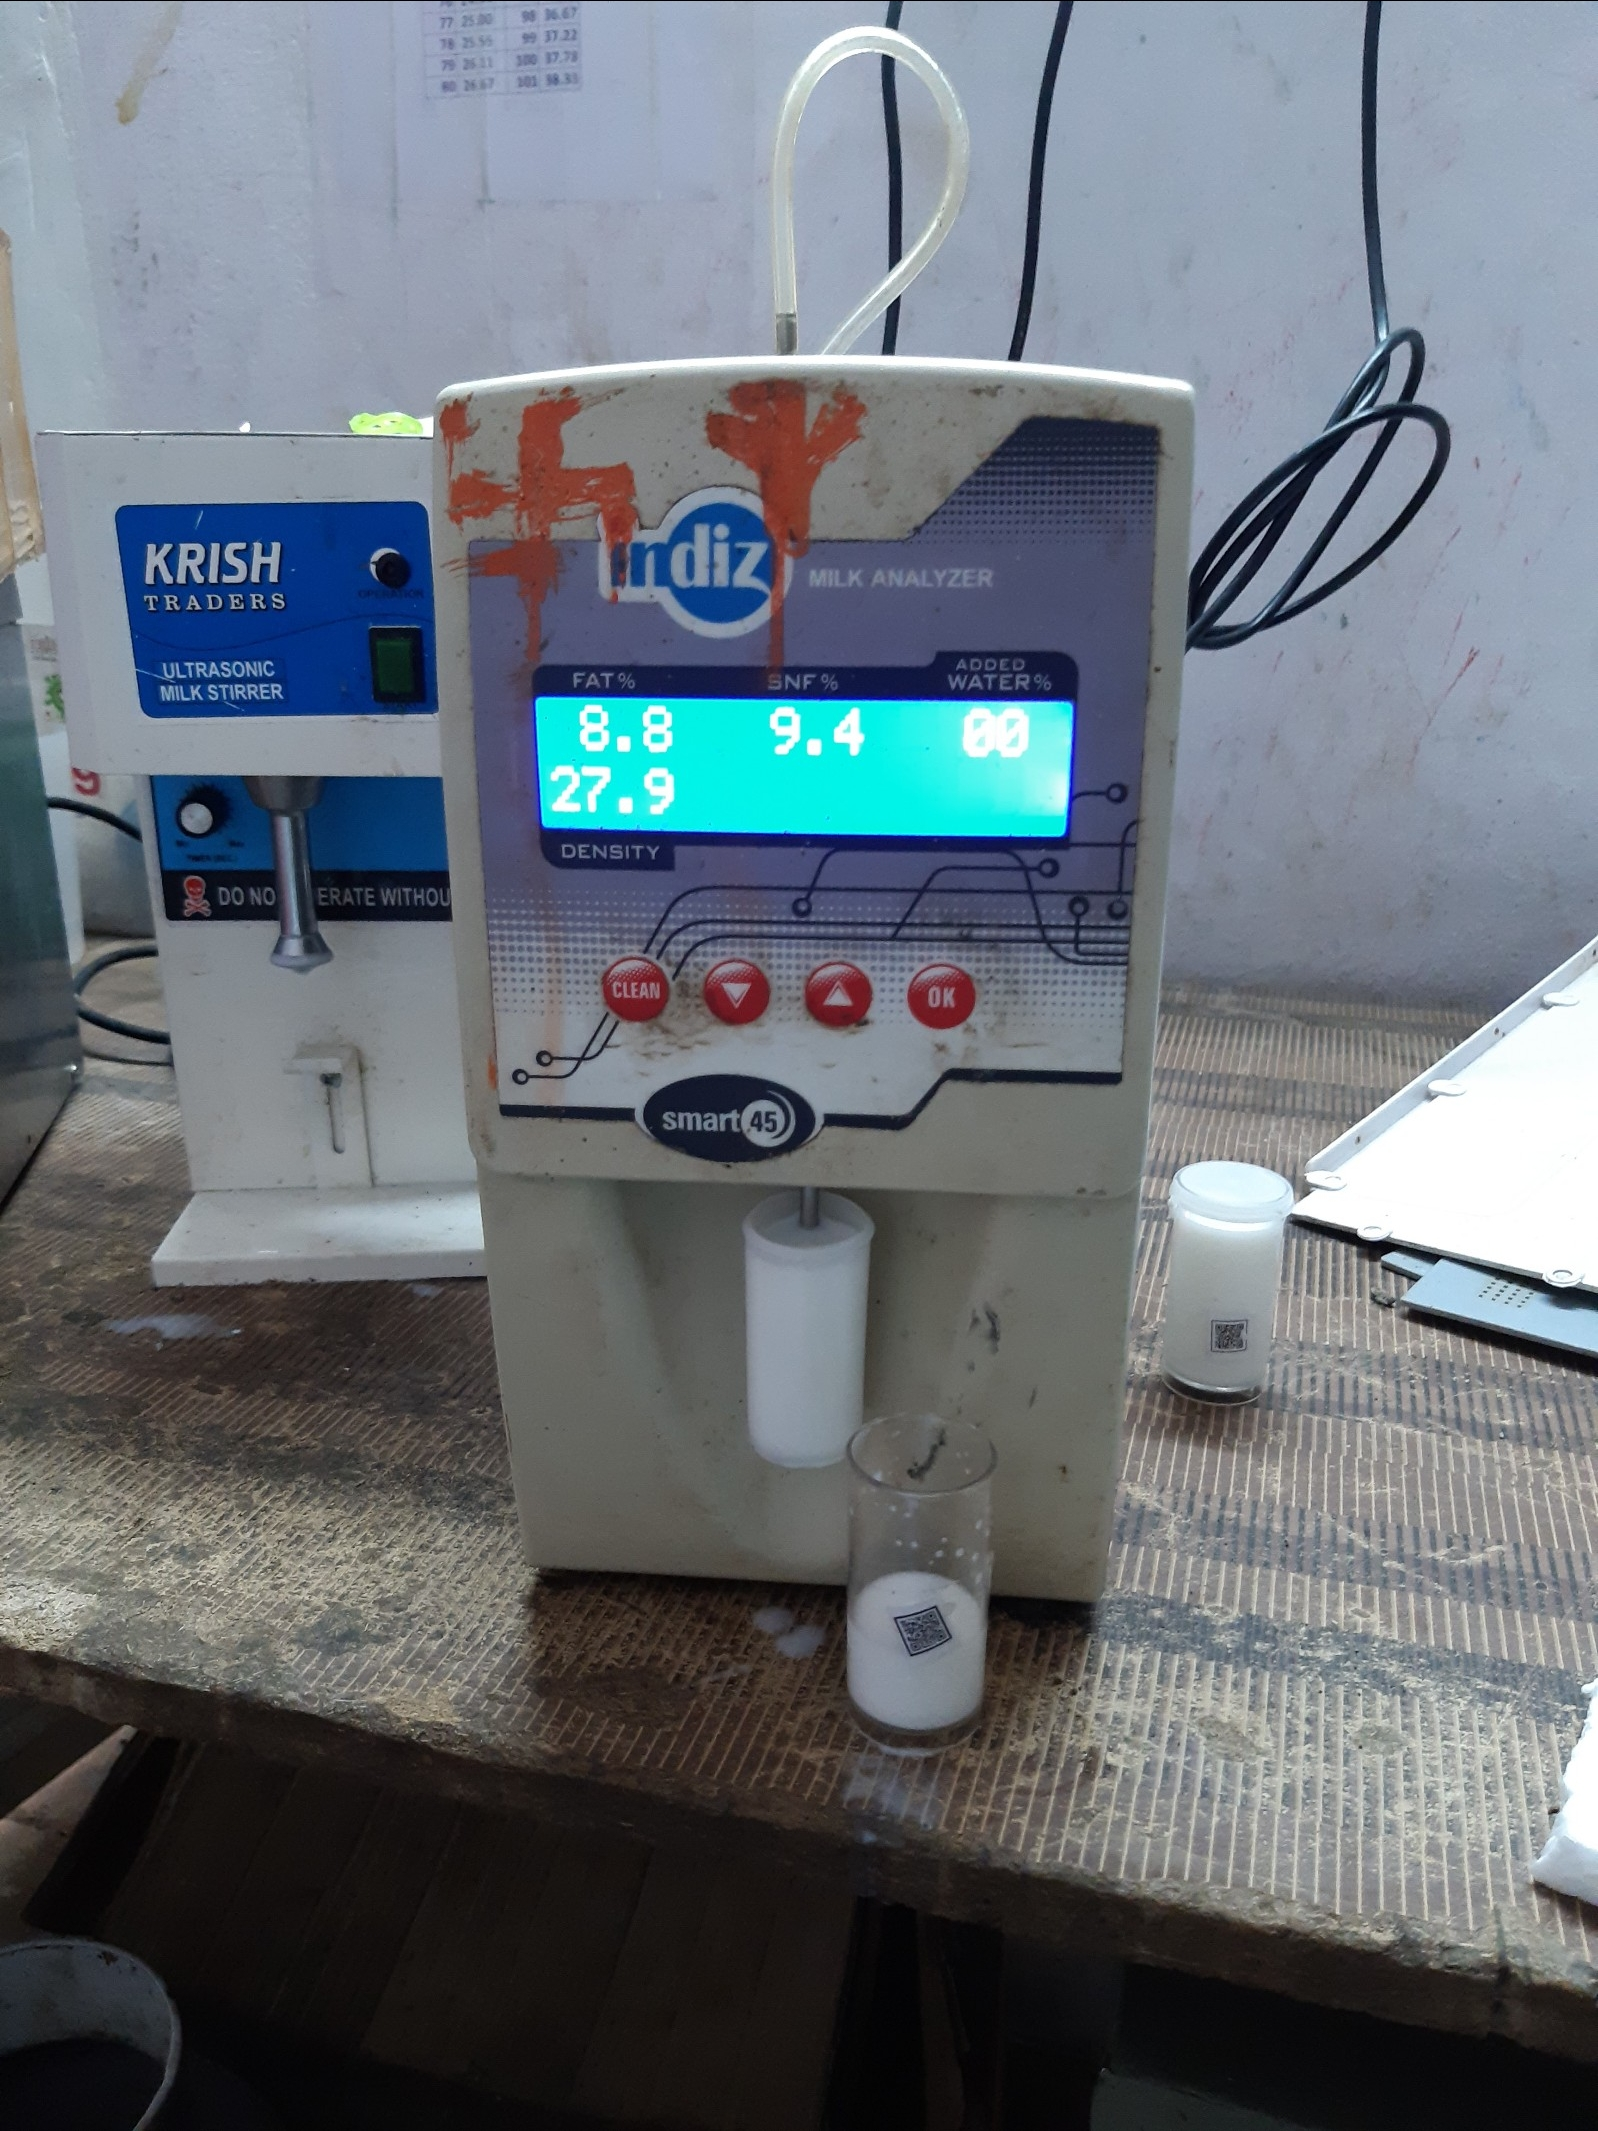lcd: (522, 691, 1088, 846)
qr: (886, 1602, 963, 1671)
